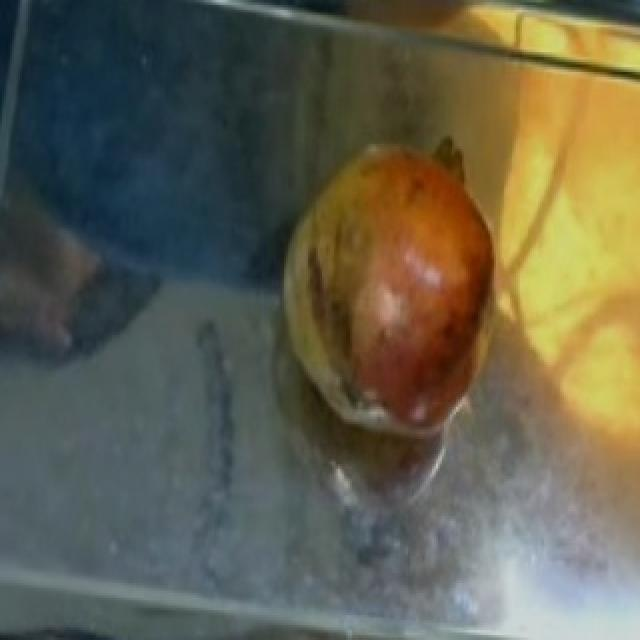fruit: (308, 208, 516, 466)
